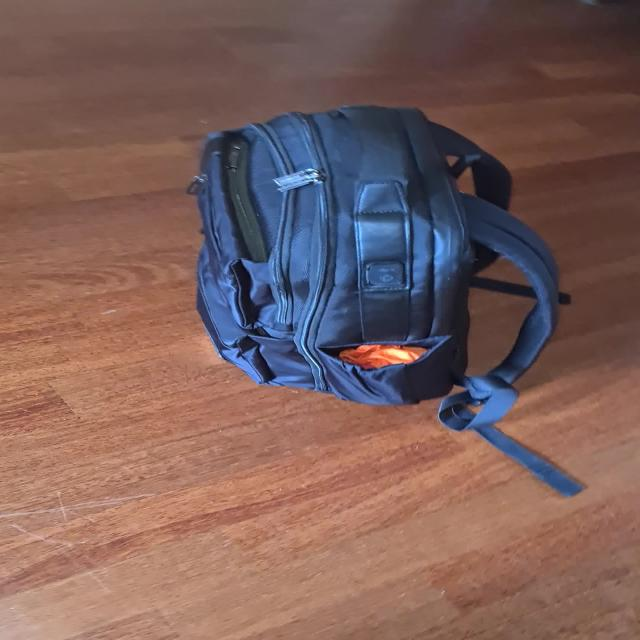backpack: (177, 91, 573, 414)
